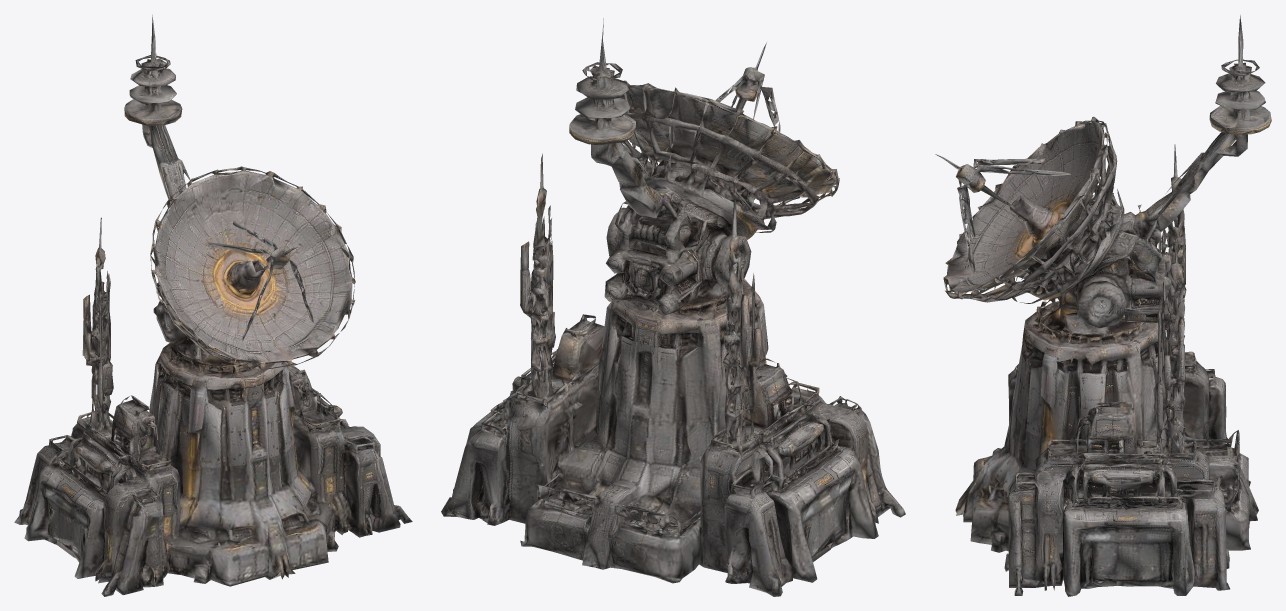
Rendered from radar.glb.
3 views of the same model, side by side, from view 1: azimuth 30°, elevation 25°; view 2: azimuth 150°, elevation 25°; view 3: azimuth 270°, elevation 25° (orthographic). The views are drawn at different scales.
Bounding box in the file's own units: 1.32 × 1.9 × 1.16.
1 material, 1 textured.
